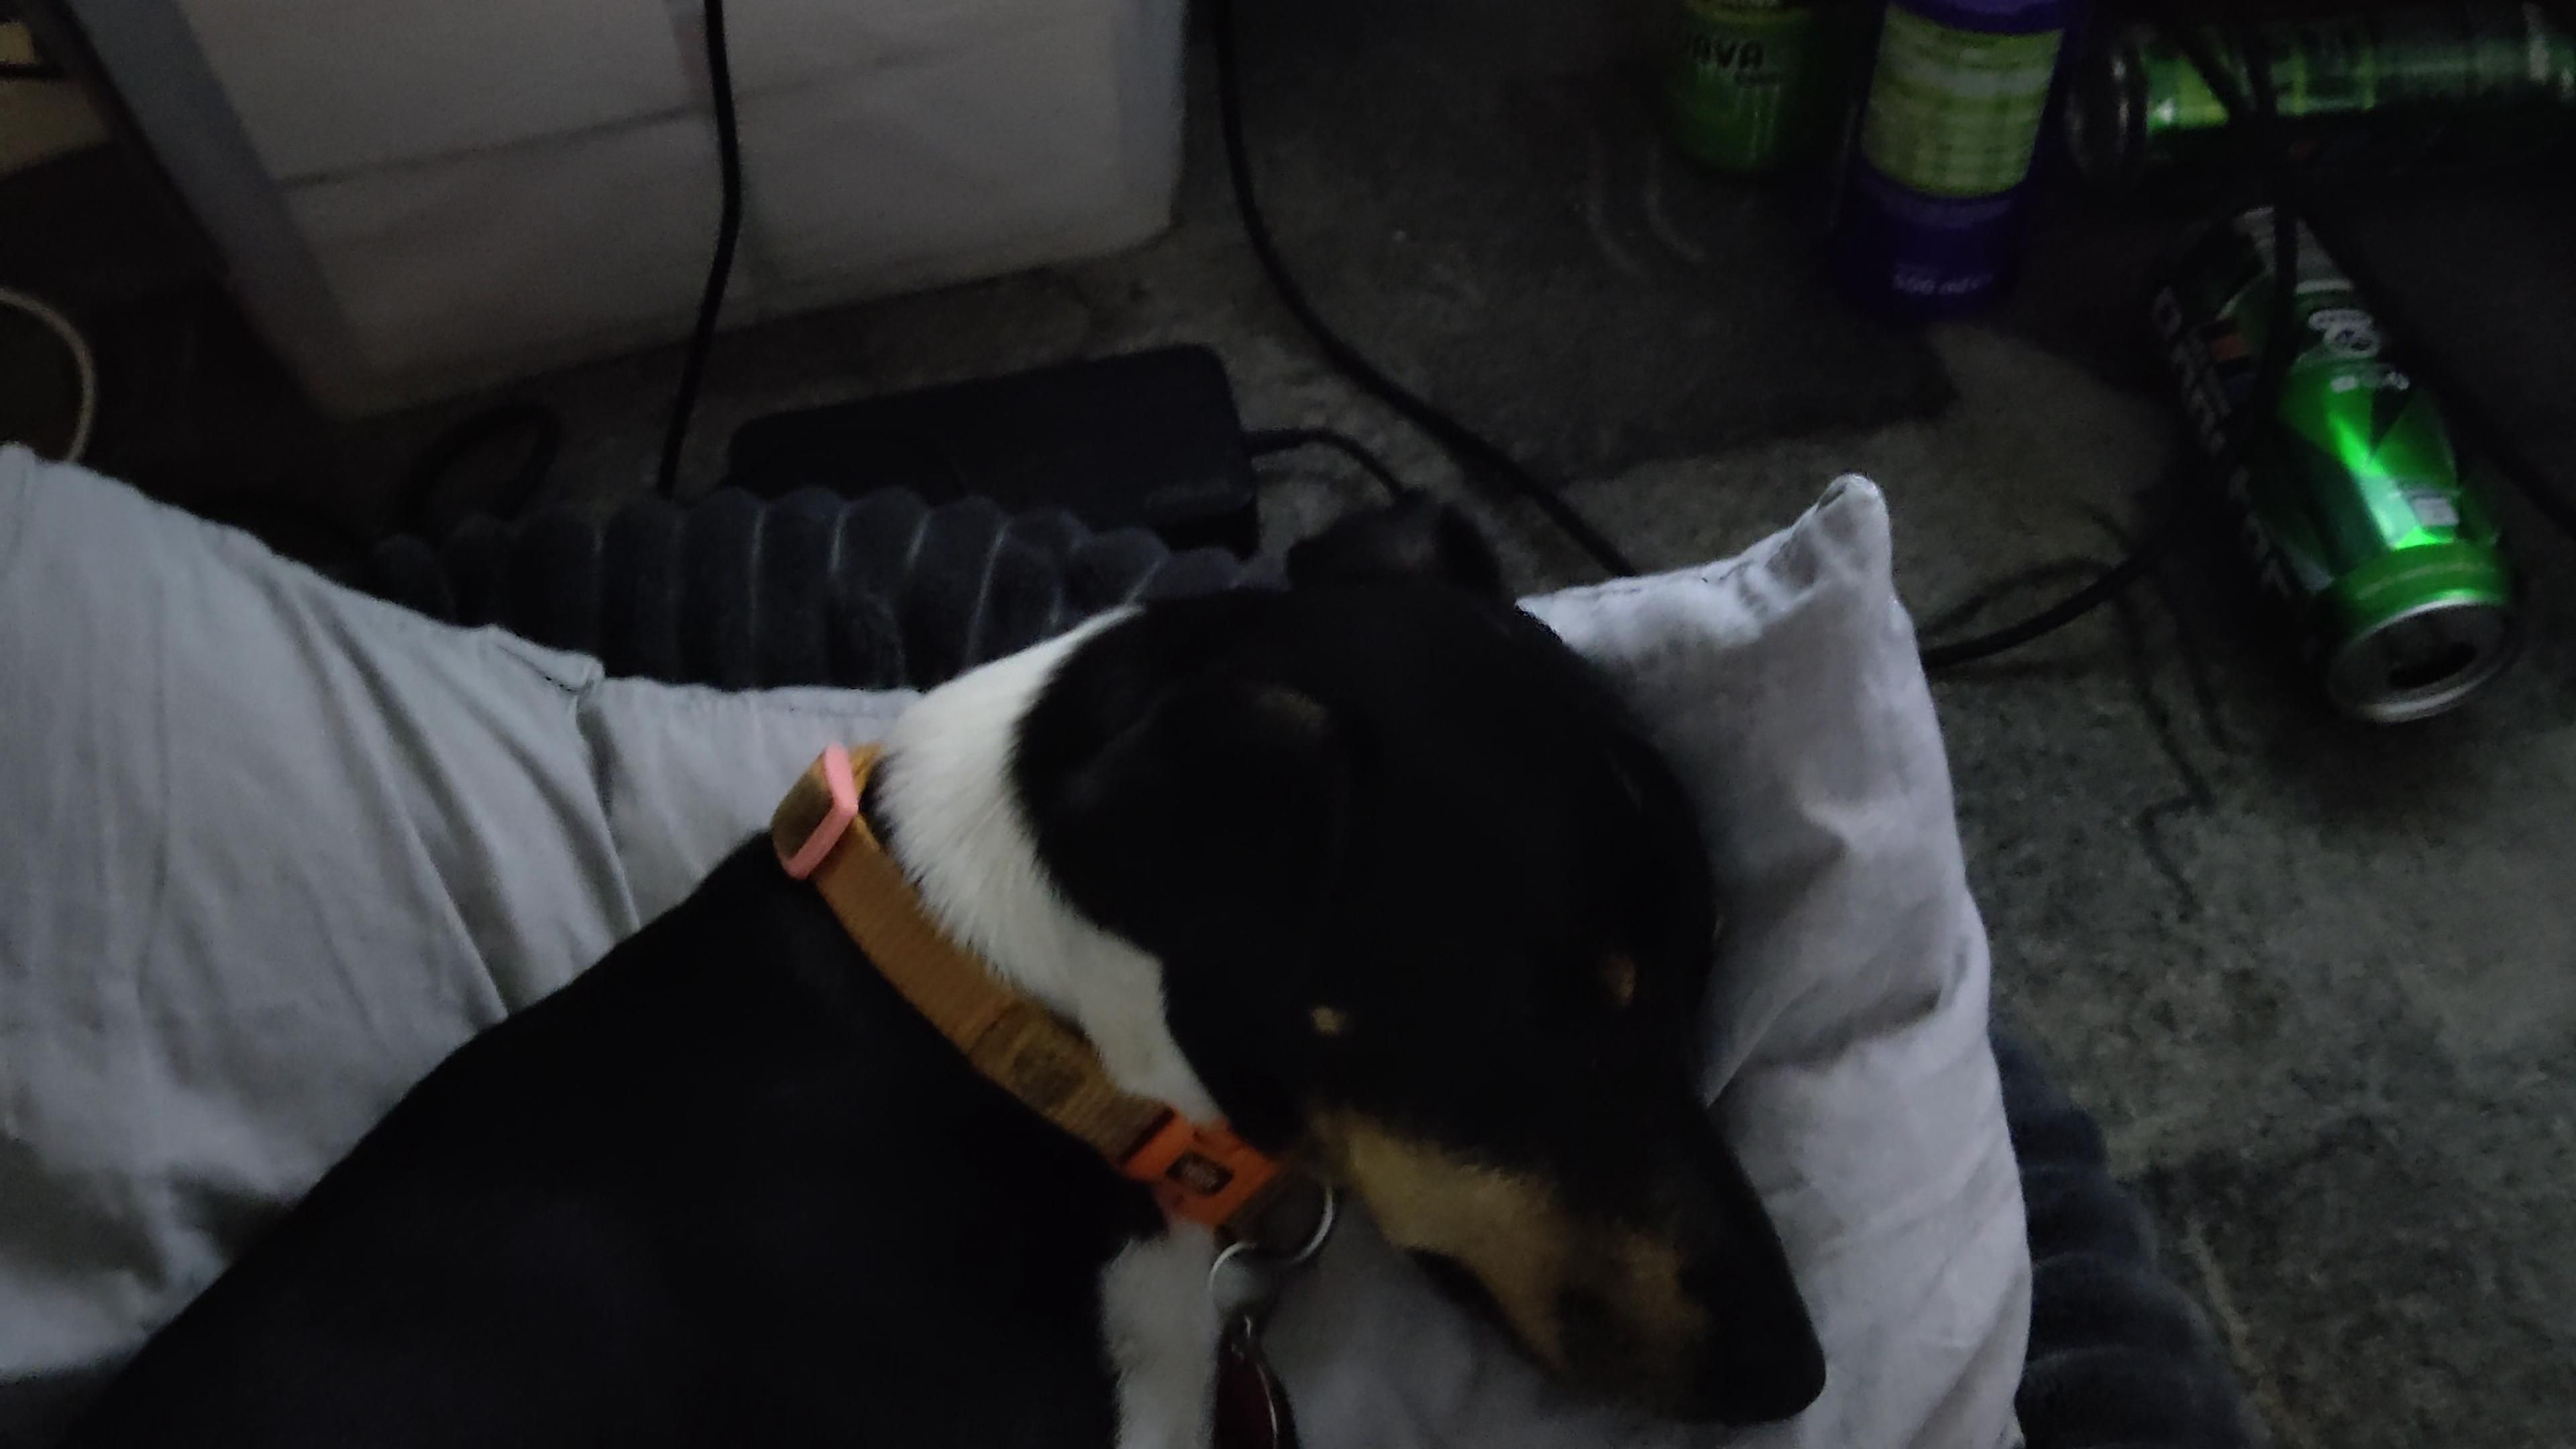Dog: (42, 449, 1824, 1449)
